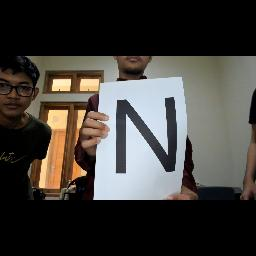n: (107, 93, 193, 183)
